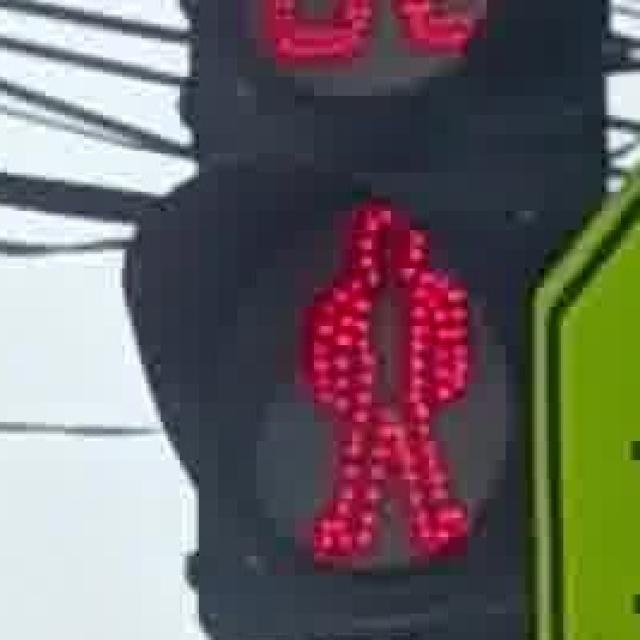red-crossing: (282, 187, 484, 576)
